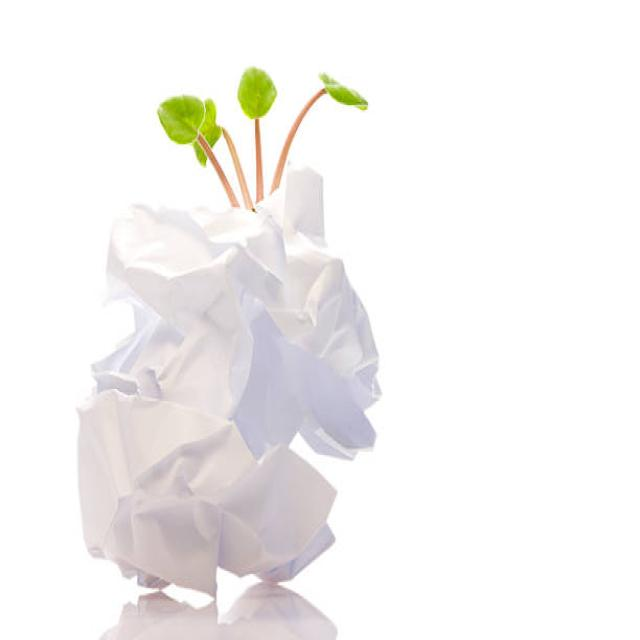electronic: (75, 195, 384, 601), (98, 580, 337, 638)
